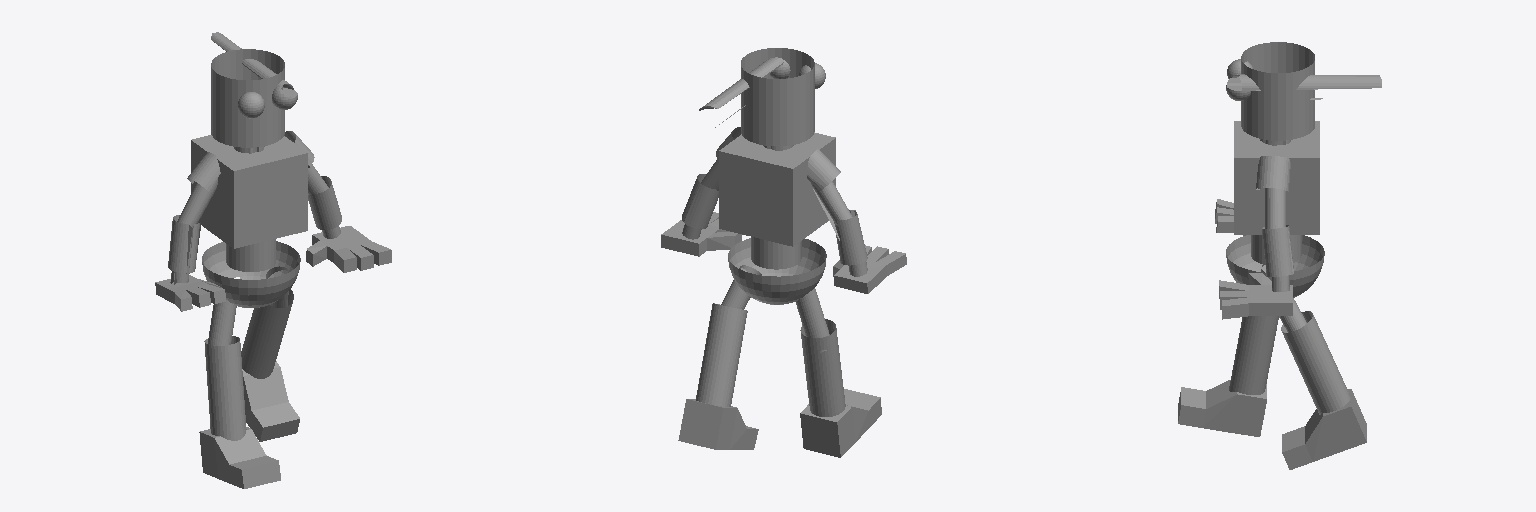
The model's file is mydumbo4.obj.
3 views of the same model, side by side, from view 1: azimuth 30°, elevation 25°; view 2: azimuth 150°, elevation 25°; view 3: azimuth 270°, elevation 25° (orthographic).
Visible parts, largest first — view 1: Circle; view 2: Circle; view 3: Circle.
Part boxes in pixels (x1,y1,x2,y2): Circle: (155,32,391,488); Circle: (661,48,906,457); Circle: (1178,42,1381,469).
Size of the model in its own units: 12.87 by 22.36 by 10.67.